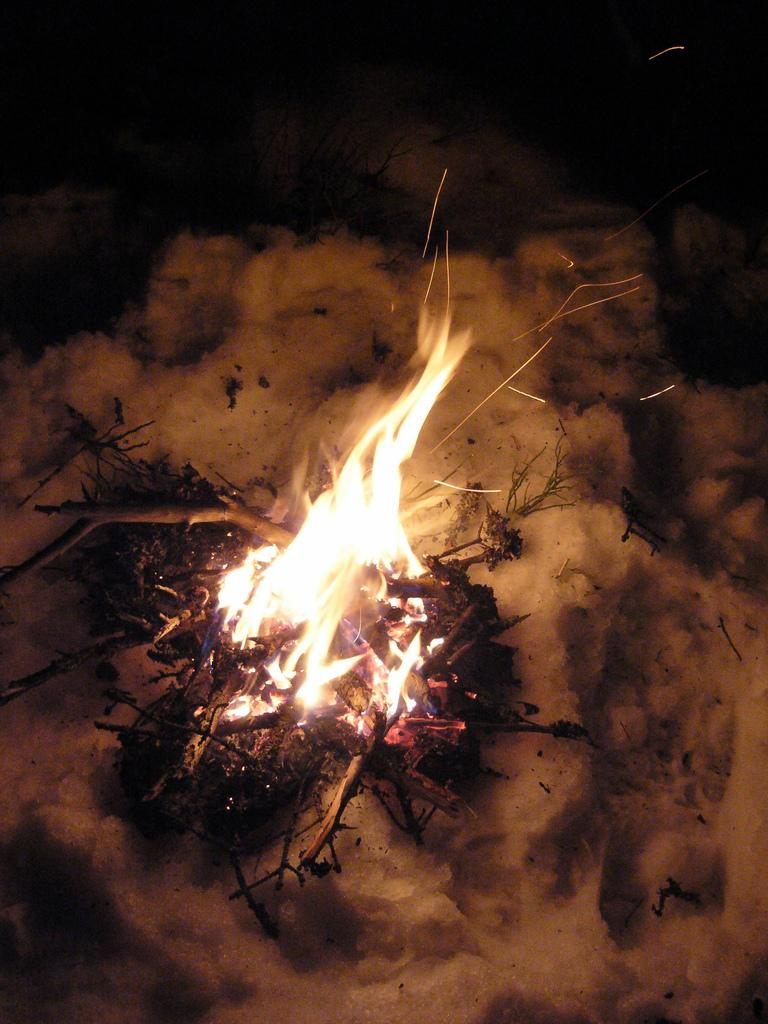fire: (240, 508, 410, 678)
